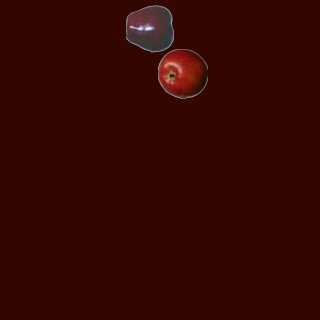Apple Braeburn: (157, 48, 207, 98)
Apple Red Delicious: (125, 3, 175, 53)
